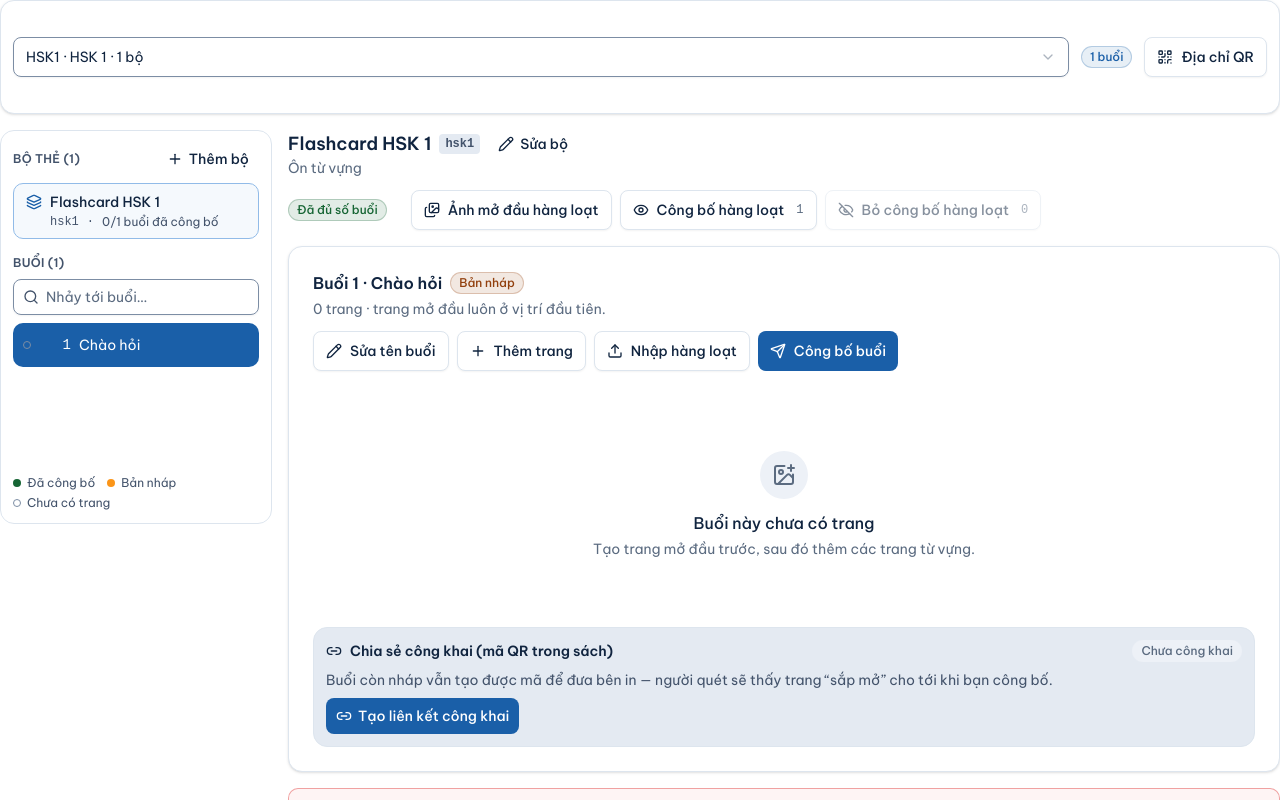
Test: FlashcardAdminManager › hiện trước địa chỉ QR cố định của từng buổi, kể cả buổi còn nháp
Click the button "Địa chỉ QR".
click(1206, 57)  # box [1144, 37, 1267, 77]
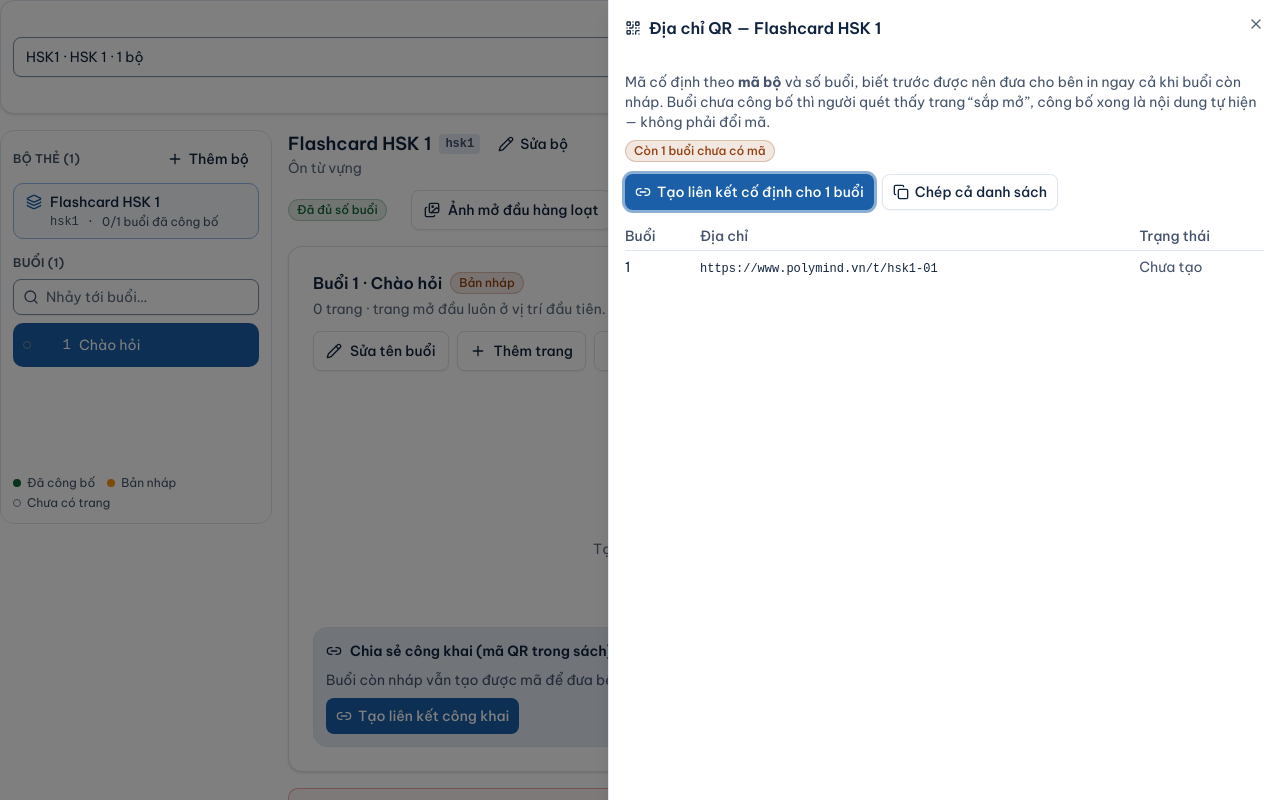
Check: the text "https://www.polymind.vn/t/hsk1-01" is shown, box [700, 262, 938, 276]
Check: the text "Còn 1 buổi chưa có mã" is shown, box [625, 140, 775, 162]
Check: the text "Chưa tạo" is shown, box [1139, 258, 1203, 276]
